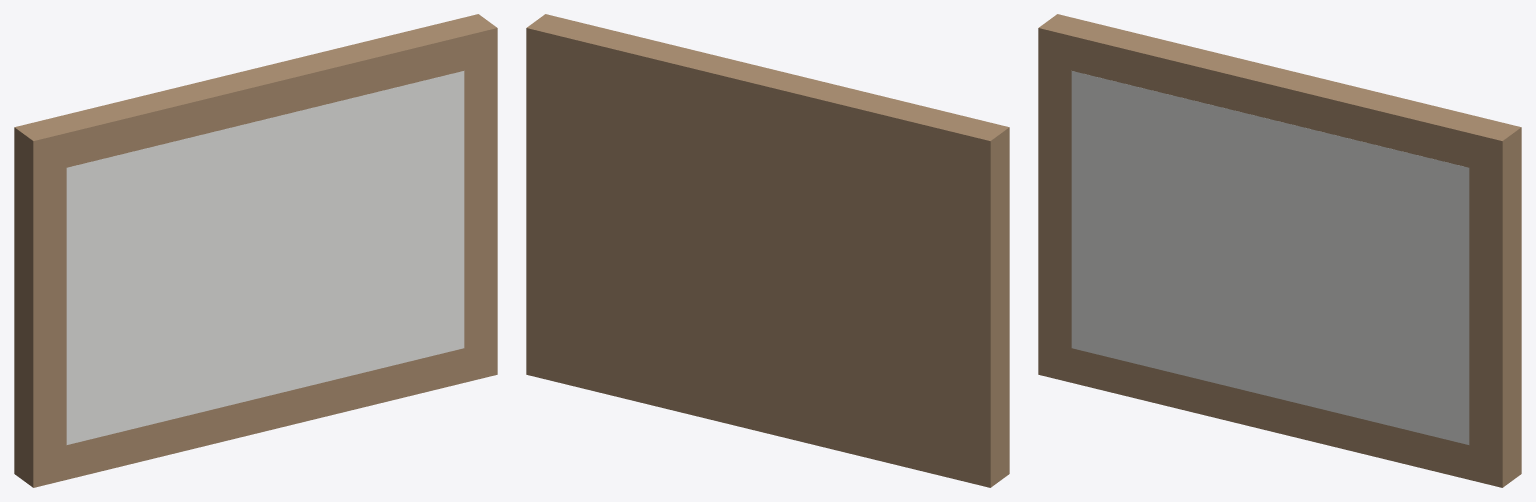
The model's file is gallery_frame.glb.
3 views of the same model, side by side, from view 1: azimuth 30°, elevation 25°; view 2: azimuth 150°, elevation 25°; view 3: azimuth 330°, elevation 25° (orthographic).
Parts seen in each view (by area): view 1: canvas, frame; view 2: frame; view 3: canvas, frame.
Boxes of the visible parts, x1,y1,x2,y2 form: canvas: (66,71,464,444); frame: (14,14,497,487); frame: (526,14,1009,487); canvas: (1071,71,1469,444); frame: (1038,14,1521,487).
Bounding box in the file's own units: 1.4 × 1 × 0.0998.
